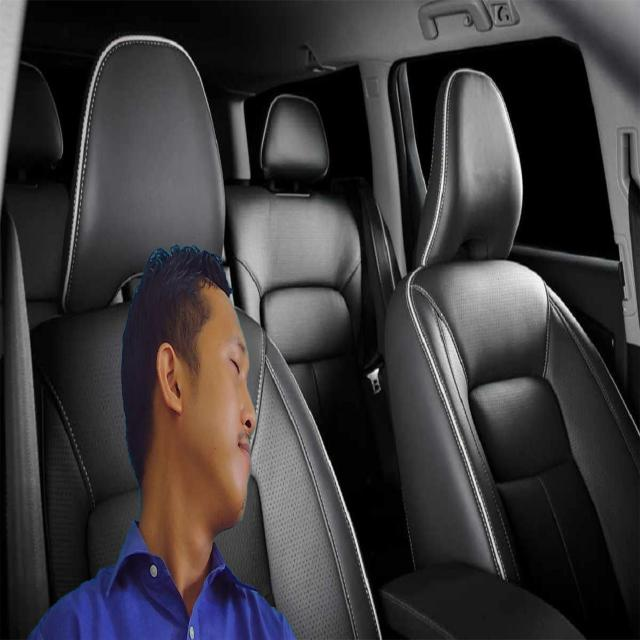no-seatbelt: (178, 257, 279, 535)
